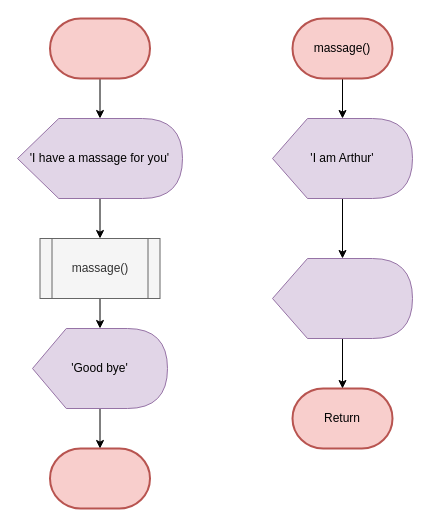
Image size: 430x526. Some labels were removed from this diagram. The shapes that lost their labels are listed below. From the top down, each one's box as (x1, y1, x2, y2) in pixels, then its label:
(48, 17, 150, 79): start
(272, 258, 412, 338): 'Kings of the Britons'
(48, 447, 150, 509): Stop
